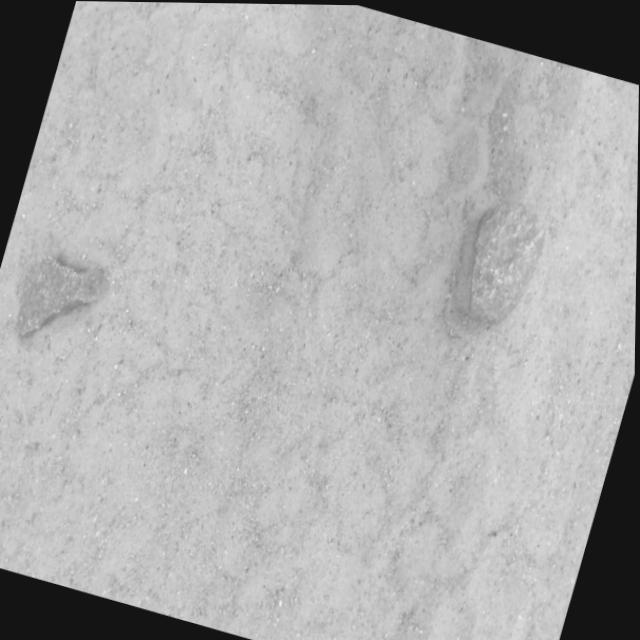rock: (469, 201, 544, 322), (18, 255, 99, 335)
